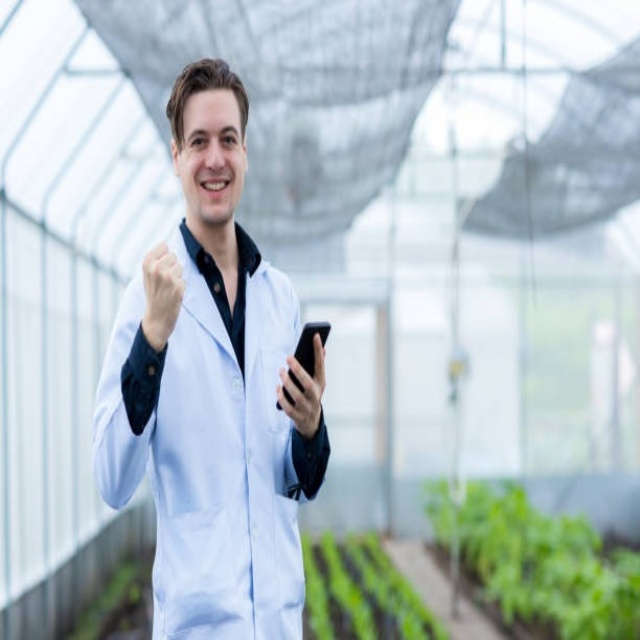Sin_gafas: (184, 121, 242, 155)
Sin_guantes: (277, 334, 327, 439), (140, 235, 187, 339)
Sin_mascara: (192, 166, 239, 213)
